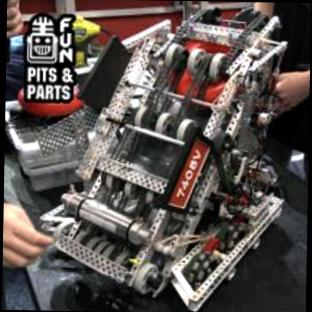Robot: (40, 9, 286, 310)
